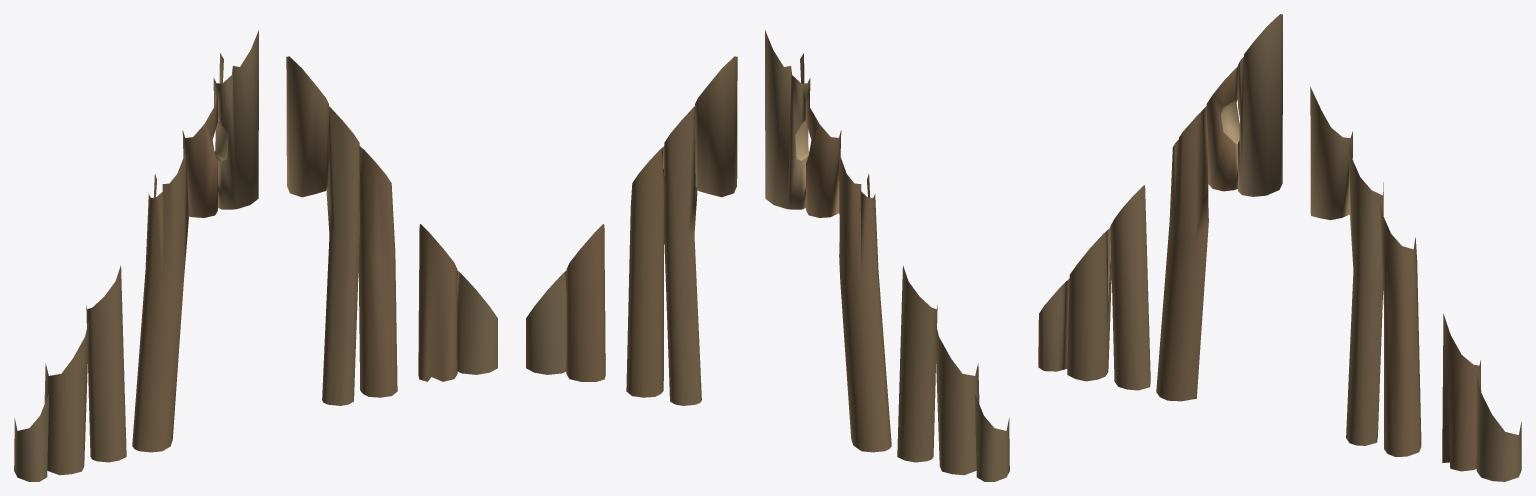
File: rpgpp_av_roof_end_01_6x5_wall_door_04a.gltf
3 views of the same model, side by side, from view 1: azimuth 30°, elevation 25°; view 2: azimuth 150°, elevation 25°; view 3: azimuth 330°, elevation 25° (orthographic).
Visible parts, largest first — view 1: rpgpp_av_roof_end_01_6x5_wall_door_04a; view 2: rpgpp_av_roof_end_01_6x5_wall_door_04a; view 3: rpgpp_av_roof_end_01_6x5_wall_door_04a.
Part boxes in pixels (left/top/right/bottom): rpgpp_av_roof_end_01_6x5_wall_door_04a: left=14, top=30, right=497, bottom=481; rpgpp_av_roof_end_01_6x5_wall_door_04a: left=526, top=30, right=1009, bottom=481; rpgpp_av_roof_end_01_6x5_wall_door_04a: left=1038, top=14, right=1521, bottom=481.
Size of the model in its own units: 0.06 by 0.0488 by 0.00463.
Materials: 1 (1 with a texture image).
